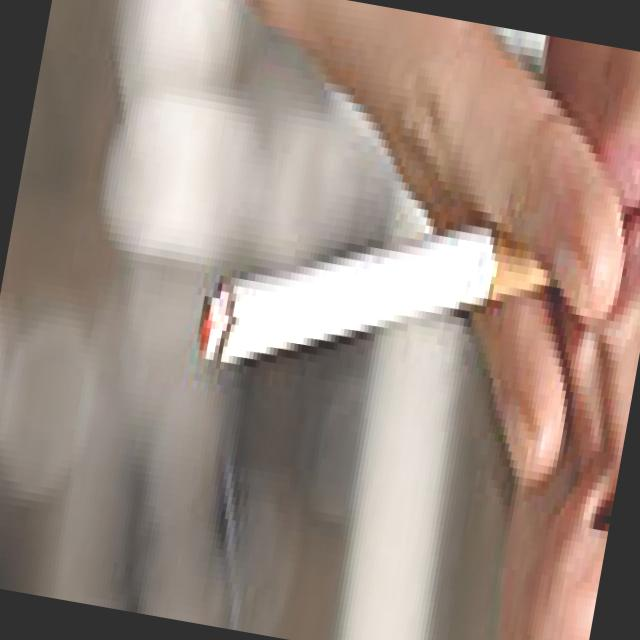smoke: (192, 193, 556, 430)
